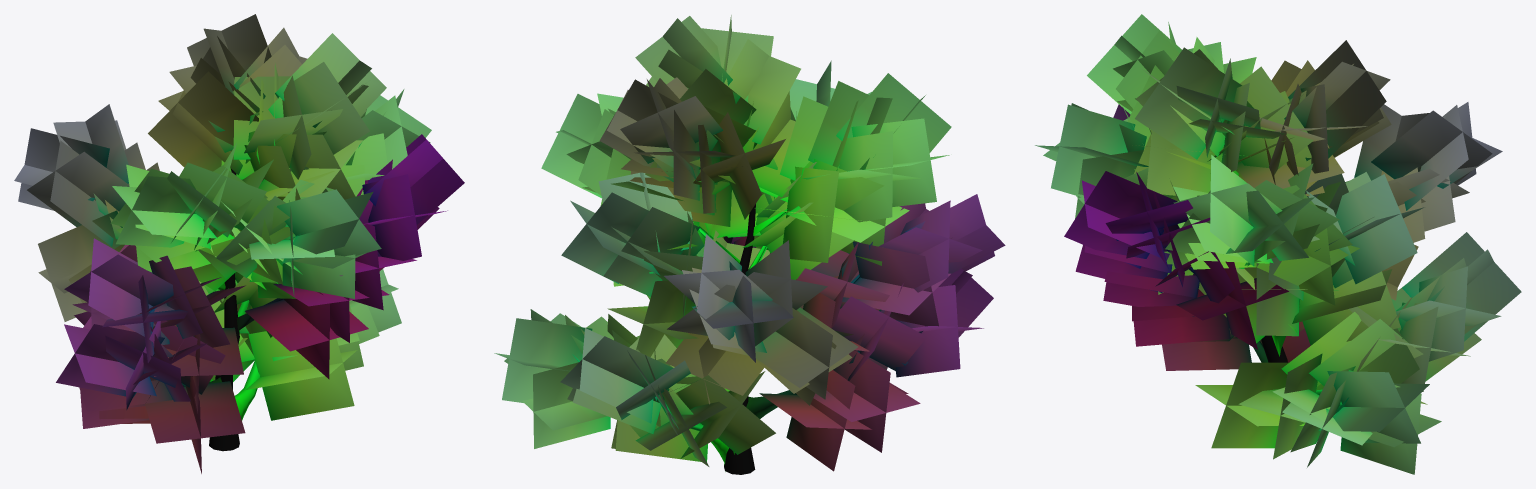
Rendered from URP_P11_Tree_4_LOD_2.fbx.
3 renders of one model, left to right at view 1: azimuth 30°, elevation 25°; view 2: azimuth 150°, elevation 25°; view 3: azimuth 270°, elevation 25°, orthographic. The views are drawn at different scales.
Visible parts, largest first — view 1: Tree_4_LOD_2; view 2: Tree_4_LOD_2; view 3: Tree_4_LOD_2.
Boxes of the visible parts, left/top/right/bottom form: Tree_4_LOD_2: left=14, top=14, right=464, bottom=473; Tree_4_LOD_2: left=494, top=15, right=1005, bottom=474; Tree_4_LOD_2: left=1035, top=14, right=1521, bottom=474.
Size of the model in its own units: 553 by 559 by 578.
